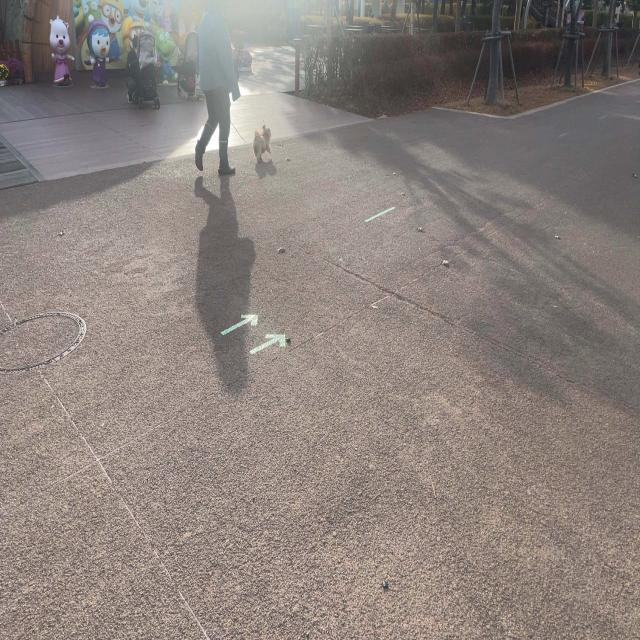Leashed_Dog: (225, 90, 272, 165)
